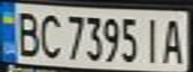3: (81, 12, 106, 62)
5: (118, 13, 142, 64)
7: (60, 11, 84, 61)
9: (100, 14, 124, 63)
A: (160, 15, 190, 64)
B: (9, 7, 42, 58)
C: (36, 9, 63, 60)
I: (139, 15, 163, 64)
